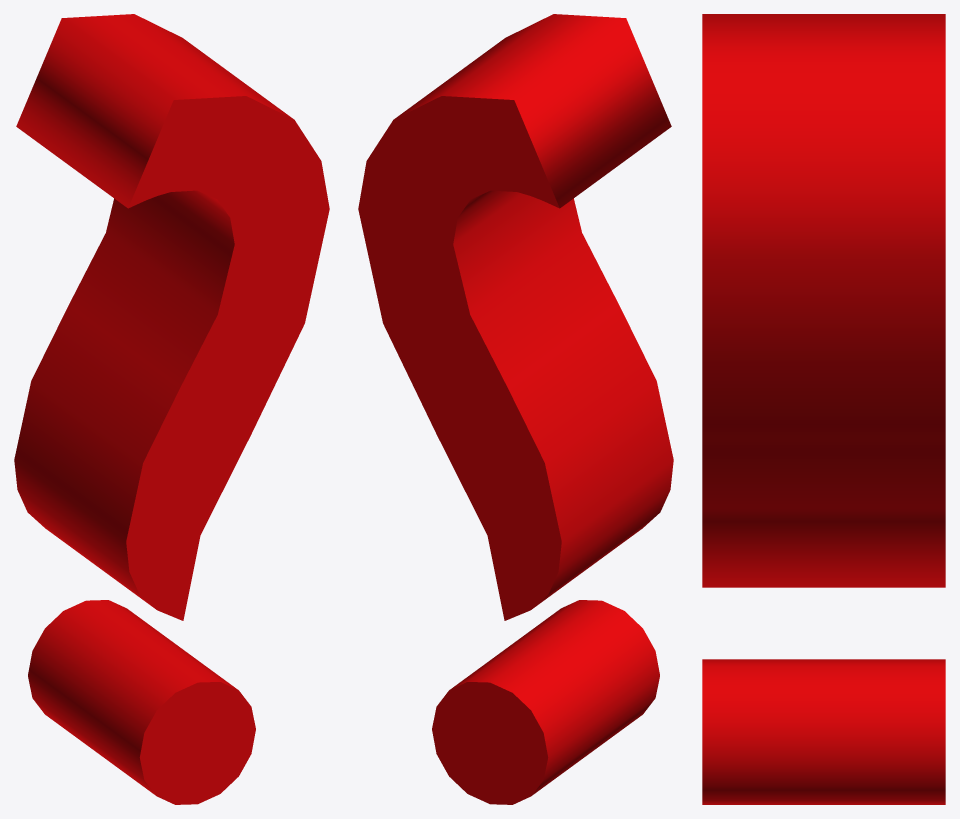
The model's file is what.glb.
The picture shows the model from 3 angles, left to right: view 1: azimuth 30°, elevation 25°; view 2: azimuth 150°, elevation 25°; view 3: azimuth 270°, elevation 25°; orthographic projection. The views are drawn at different scales.
Visible parts, largest first — view 1: Text; view 2: Text; view 3: Text.
Boxes of the visible parts, <box> form: Text: <box>14,14,329,804</box>; Text: <box>358,14,673,804</box>; Text: <box>702,14,945,804</box>.
Bounding box in the file's own units: 0.21 × 0.7 × 0.2.
